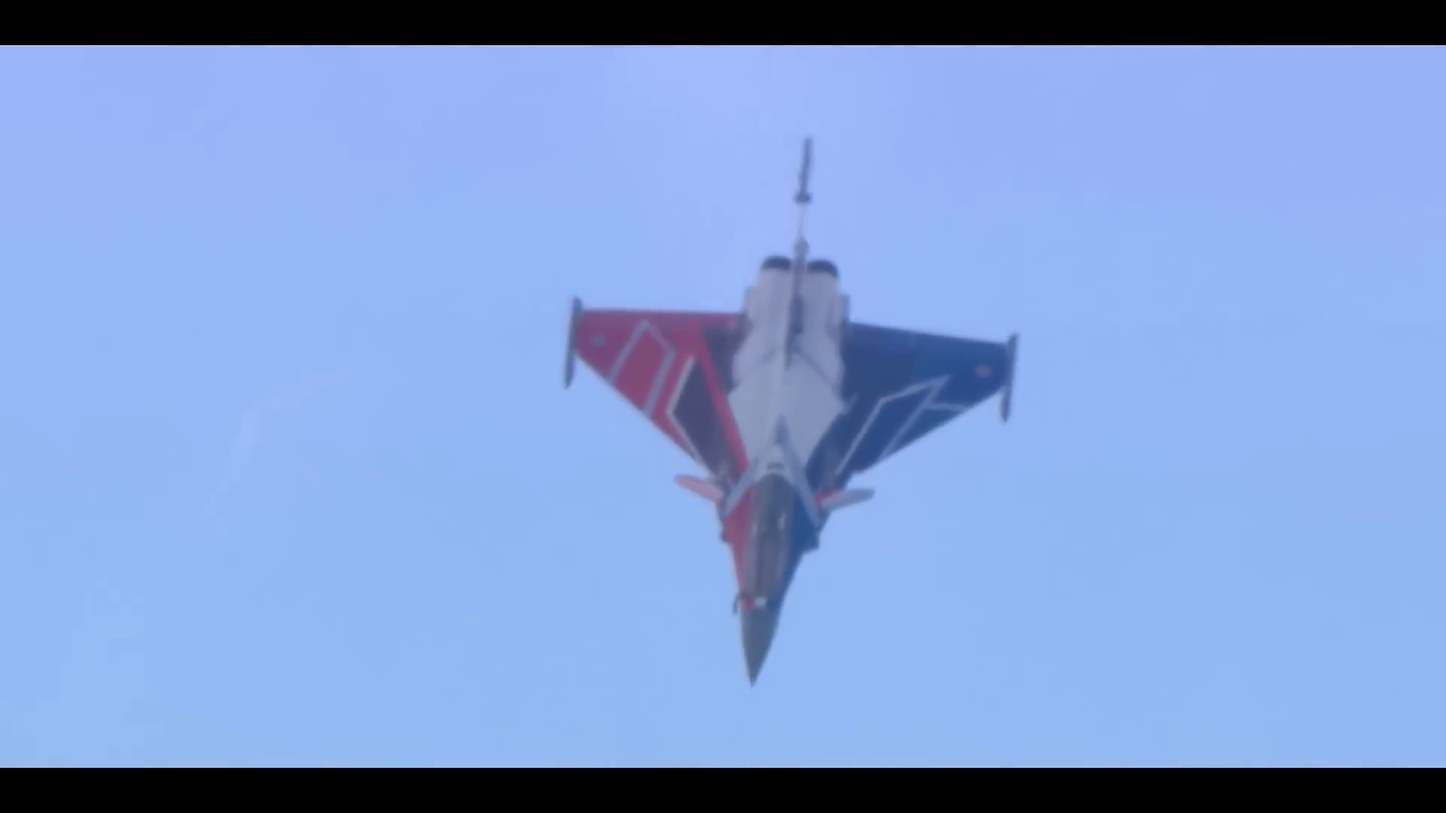Rafale: (559, 128, 1024, 695)
